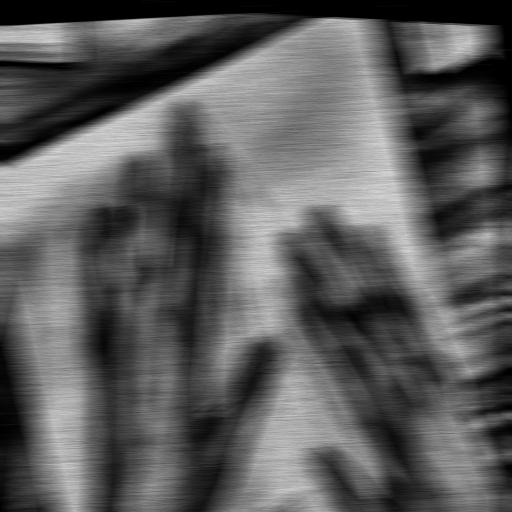boat: (6, 31, 435, 512)
